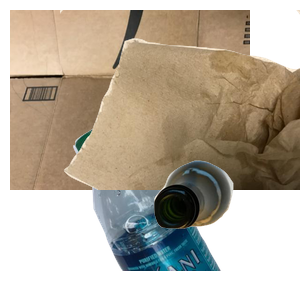cardboard: (10, 10, 250, 190)
glass: (151, 158, 300, 300)
plastic: (71, 120, 300, 300)
trash: (60, 10, 300, 190)
